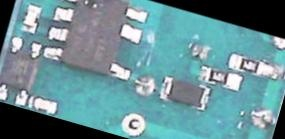chip-capacitor: (17, 0, 43, 35), (28, 92, 58, 114)
chip-resistor: (223, 49, 281, 81), (196, 62, 242, 92)
diode: (155, 71, 213, 114)
ic: (39, 0, 153, 83), (0, 32, 44, 106)
